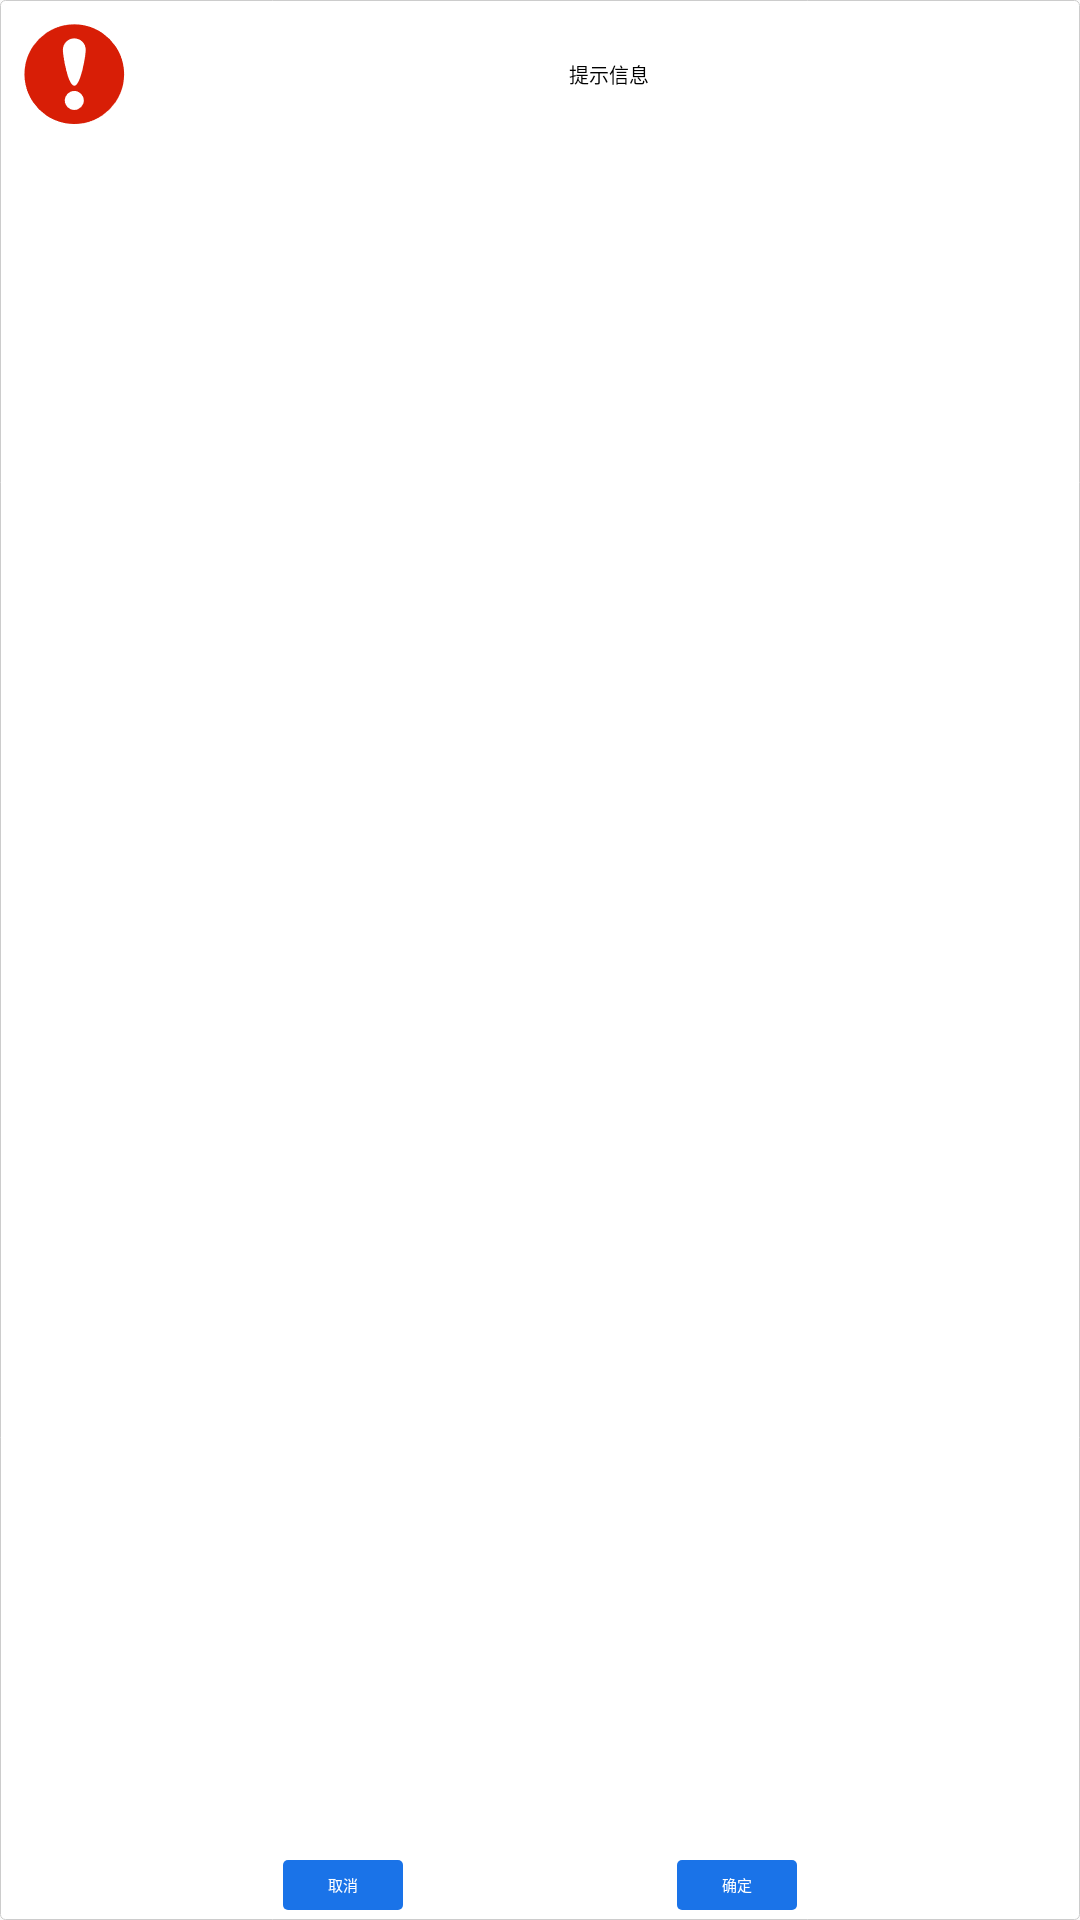

Icon bounding boxes for this 1080*1920 phone screenshot, format (x1, y1, x2, y2):
warn: (24, 24, 125, 124)
